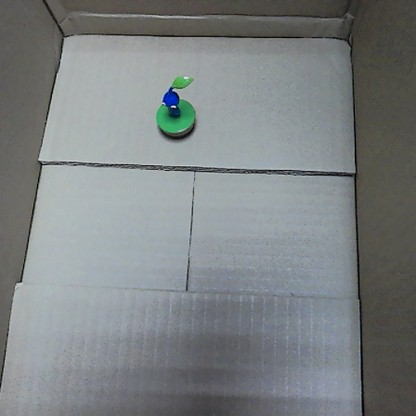leafairy: (154, 73, 199, 139)
